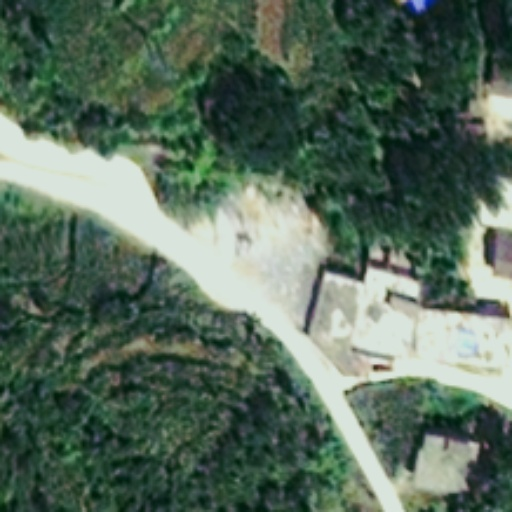landslide: (205, 179, 321, 274)
